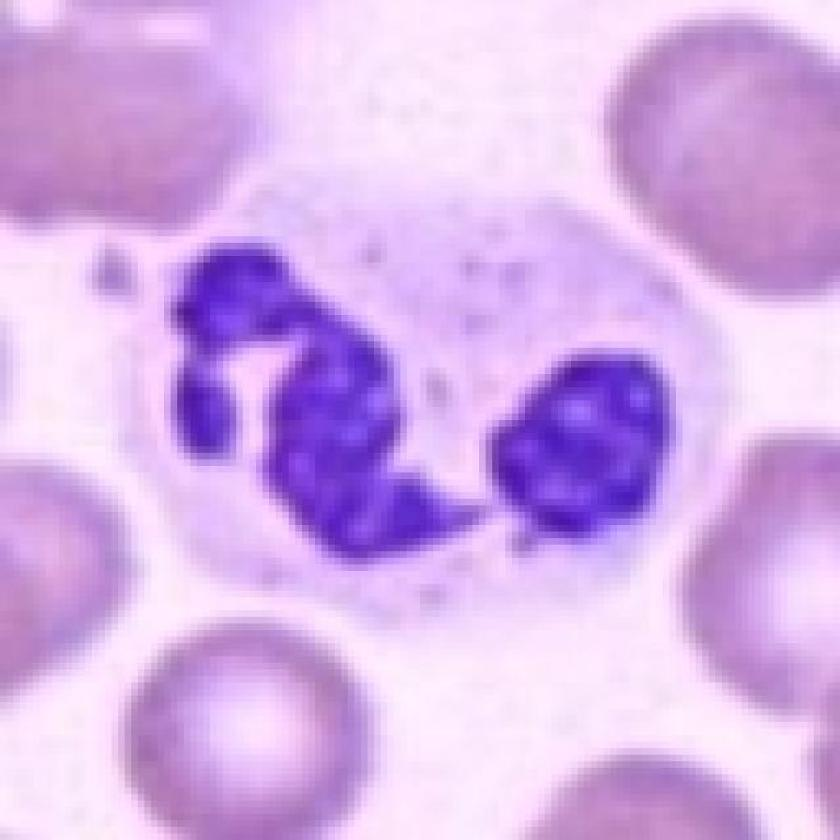neutrophil: (103, 173, 732, 632)
